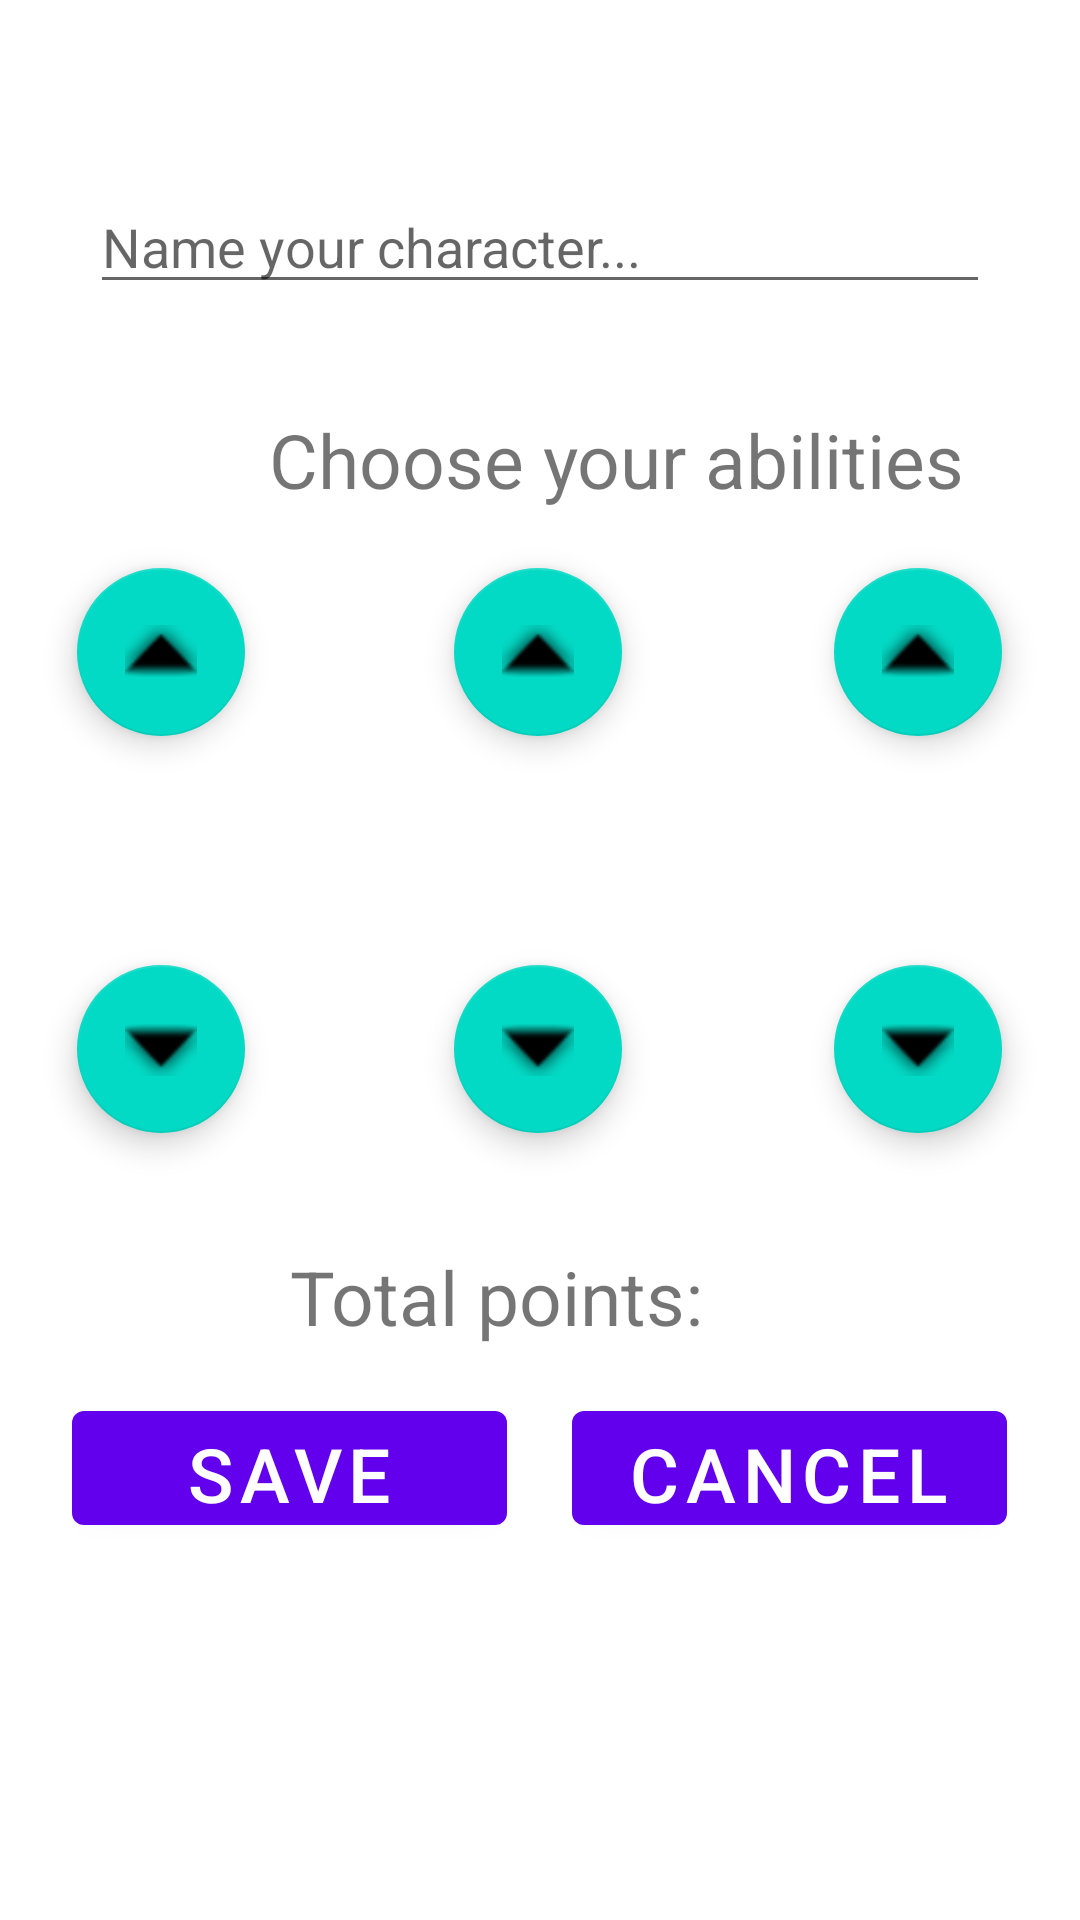

Icons on this 1080 x 1920 Android screen, each with the point to tap as point (x, y):
arrow down float: point (161, 1049), point (538, 1049), point (918, 1049)
arrow up float: point (161, 652), point (538, 652), point (918, 652)
